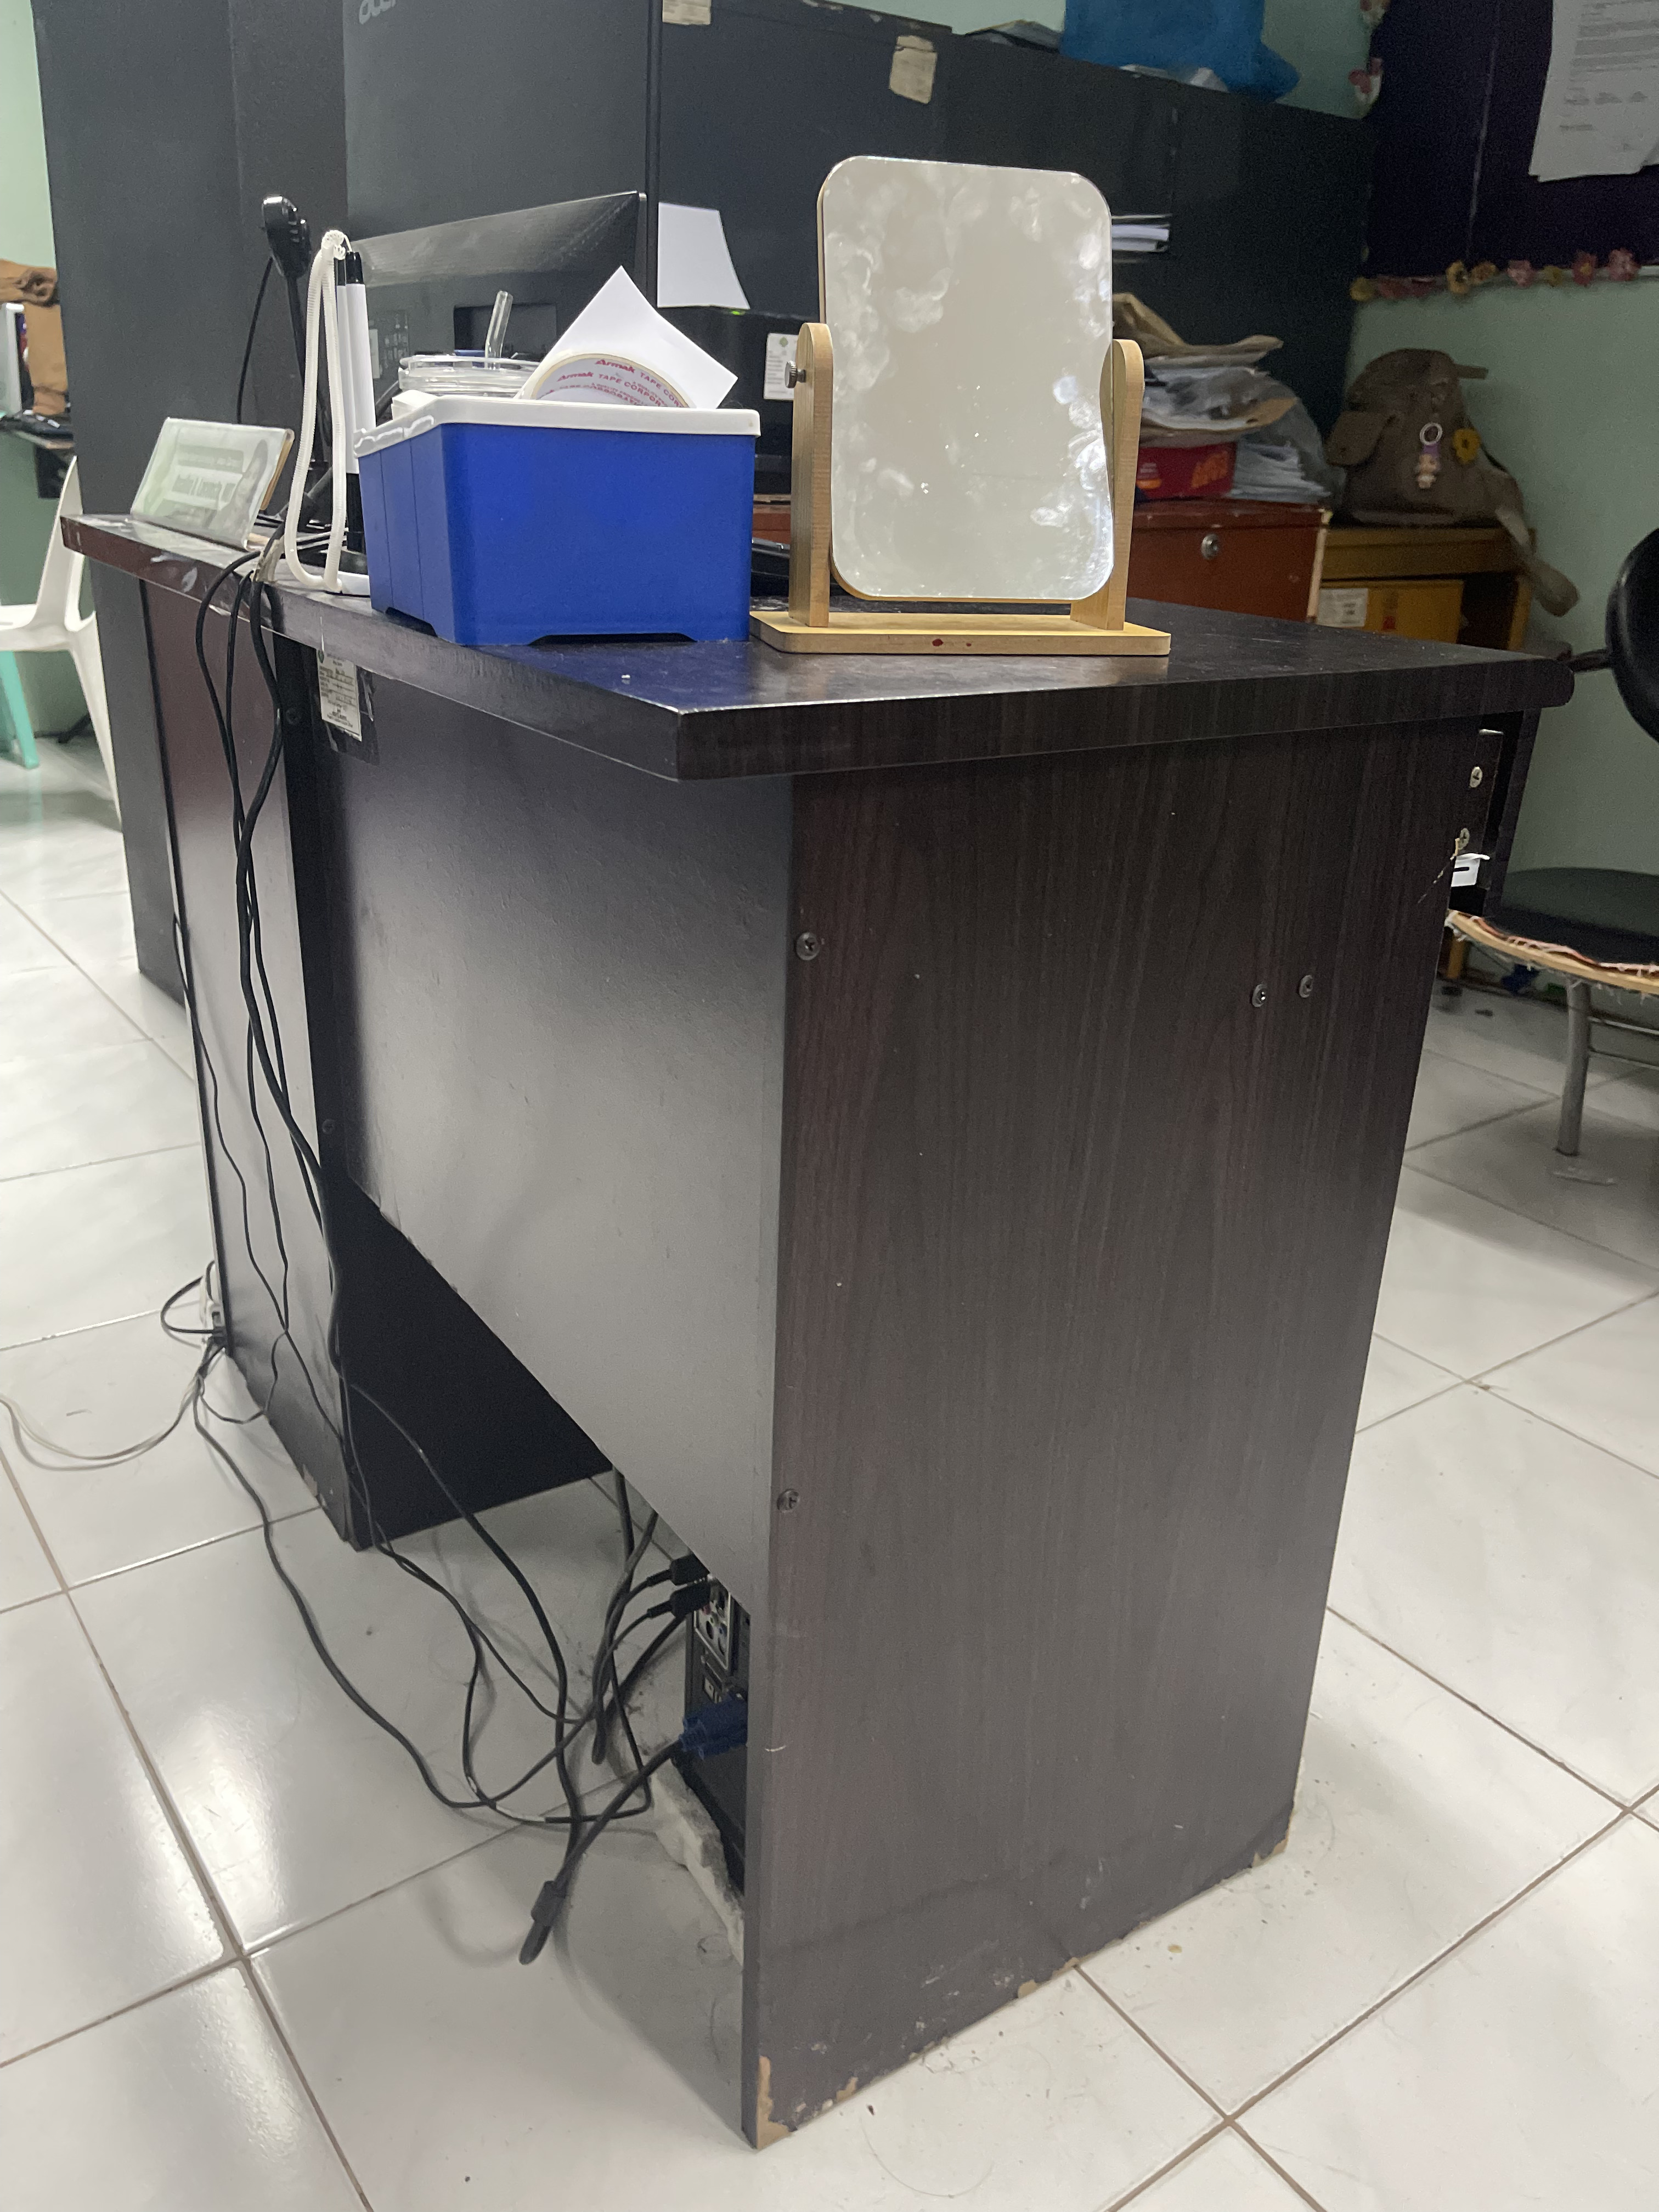table1: (58, 498, 1581, 2146)
